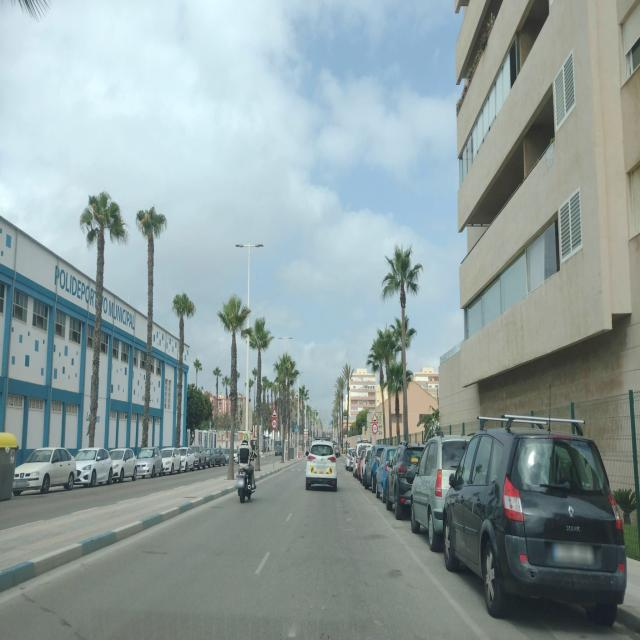bike: (238, 452, 256, 502)
car: (442, 413, 628, 627), (410, 433, 472, 551), (12, 446, 77, 496), (385, 442, 425, 519), (306, 438, 338, 492), (74, 446, 114, 487), (375, 446, 398, 502), (362, 445, 386, 491), (109, 447, 137, 482), (136, 445, 163, 478), (353, 442, 370, 479), (160, 446, 180, 474), (178, 446, 192, 472), (189, 444, 202, 470), (345, 448, 356, 471), (198, 444, 207, 468), (222, 447, 231, 465), (214, 447, 222, 466), (274, 439, 283, 455), (208, 447, 215, 466)
